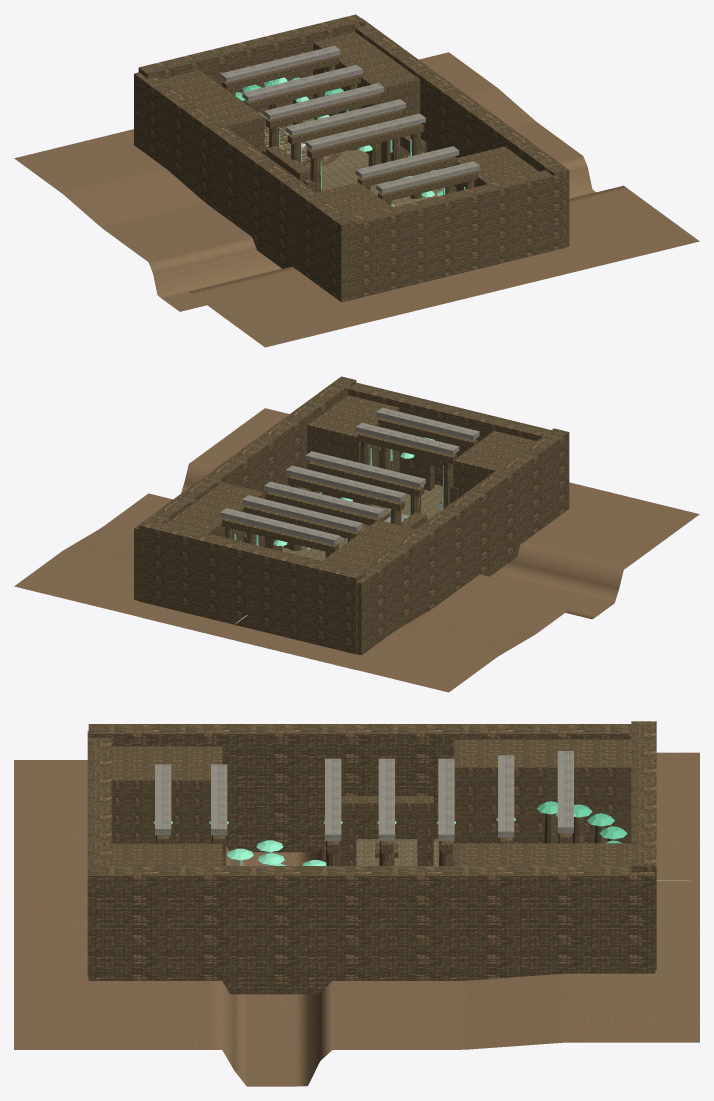
The model's file is world.glb.
3 views of the same model, one above another, from view 1: azimuth 30°, elevation 25°; view 2: azimuth 150°, elevation 25°; view 3: azimuth 270°, elevation 25° (orthographic). The views are drawn at different scales.
Visible parts, largest first — view 1: oakhaven-cistern-labyrinth_Masonry, oakhaven-cistern-labyrinth_Terrain, oakhaven-cistern-labyrinth_Timber, oakhaven-cistern-labyrinth_Roads, oakhaven-cistern-labyrinth_ImportedCatalogAndFlora; view 2: oakhaven-cistern-labyrinth_Masonry, oakhaven-cistern-labyrinth_Terrain, oakhaven-cistern-labyrinth_Timber, oakhaven-cistern-labyrinth_Roads; view 3: oakhaven-cistern-labyrinth_Masonry, oakhaven-cistern-labyrinth_Terrain, oakhaven-cistern-labyrinth_Timber, oakhaven-cistern-labyrinth_ImportedCatalogAndFlora, oakhaven-cistern-labyrinth_Roads.
Part boxes in pixels (bbox=[...]): oakhaven-cistern-labyrinth_Masonry: bbox=[134, 14, 569, 302]; oakhaven-cistern-labyrinth_Terrain: bbox=[14, 52, 699, 347]; oakhaven-cistern-labyrinth_Timber: bbox=[220, 45, 479, 193]; oakhaven-cistern-labyrinth_Roads: bbox=[264, 118, 442, 206]; oakhaven-cistern-labyrinth_ImportedCatalogAndFlora: bbox=[235, 71, 465, 206]; oakhaven-cistern-labyrinth_Masonry: bbox=[134, 376, 569, 669]; oakhaven-cistern-labyrinth_Terrain: bbox=[14, 408, 699, 692]; oakhaven-cistern-labyrinth_Timber: bbox=[220, 407, 479, 544]; oakhaven-cistern-labyrinth_Roads: bbox=[282, 484, 443, 560]; oakhaven-cistern-labyrinth_Masonry: bbox=[87, 721, 656, 994]; oakhaven-cistern-labyrinth_Terrain: bbox=[14, 752, 699, 1086]; oakhaven-cistern-labyrinth_Timber: bbox=[155, 751, 573, 840]; oakhaven-cistern-labyrinth_ImportedCatalogAndFlora: bbox=[153, 801, 689, 880]; oakhaven-cistern-labyrinth_Roads: bbox=[356, 839, 439, 865].
Bounding box in the file's own units: 92 × 23.35 × 92.
5 materials, 4 textured.
